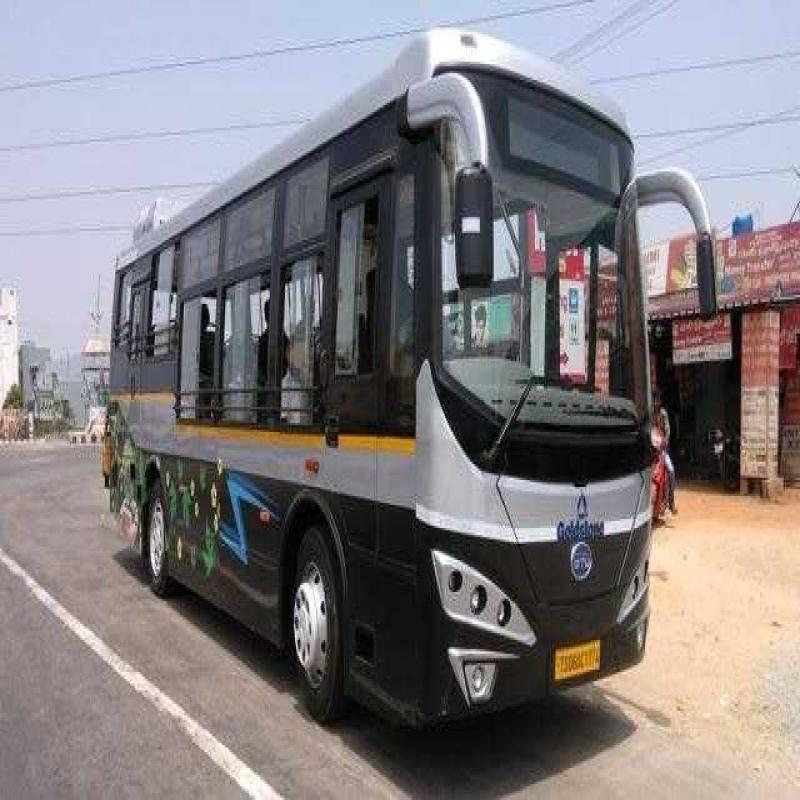bus: (101, 57, 699, 790)
